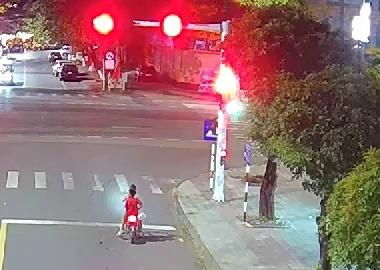red_light: (211, 66, 241, 99), (158, 10, 186, 39), (89, 10, 118, 37)
stop_line: (3, 216, 183, 231)
